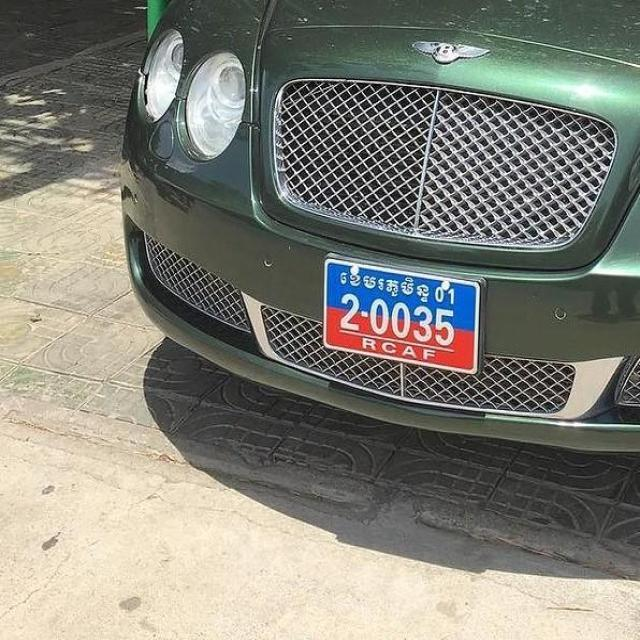RCAF: (339, 271, 428, 302)
